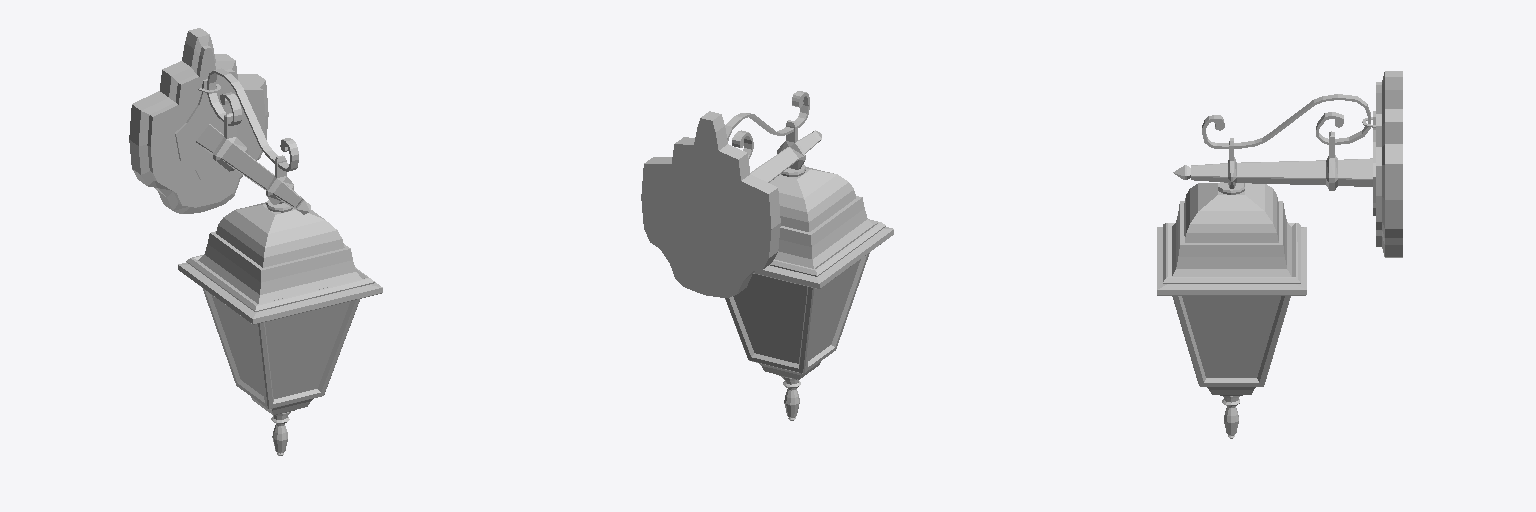
The model's file is Lamp.obj.
3 renders of one model, left to right at view 1: azimuth 30°, elevation 25°; view 2: azimuth 150°, elevation 25°; view 3: azimuth 270°, elevation 25°, orthographic.
Parts seen in each view (by area): view 1: Box02; view 2: Box02; view 3: Box02.
Part boxes in pixels (x1,y1,x2,y2): Box02: (129,28,382,455); Box02: (641,91,893,420); Box02: (1157,71,1402,438).
Bounding box in the file's own units: 0.172 × 0.4582 × 0.2822.